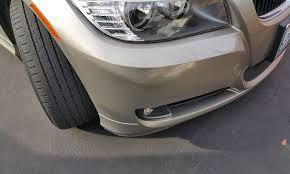front-bumper-dent: (92, 31, 236, 134)
